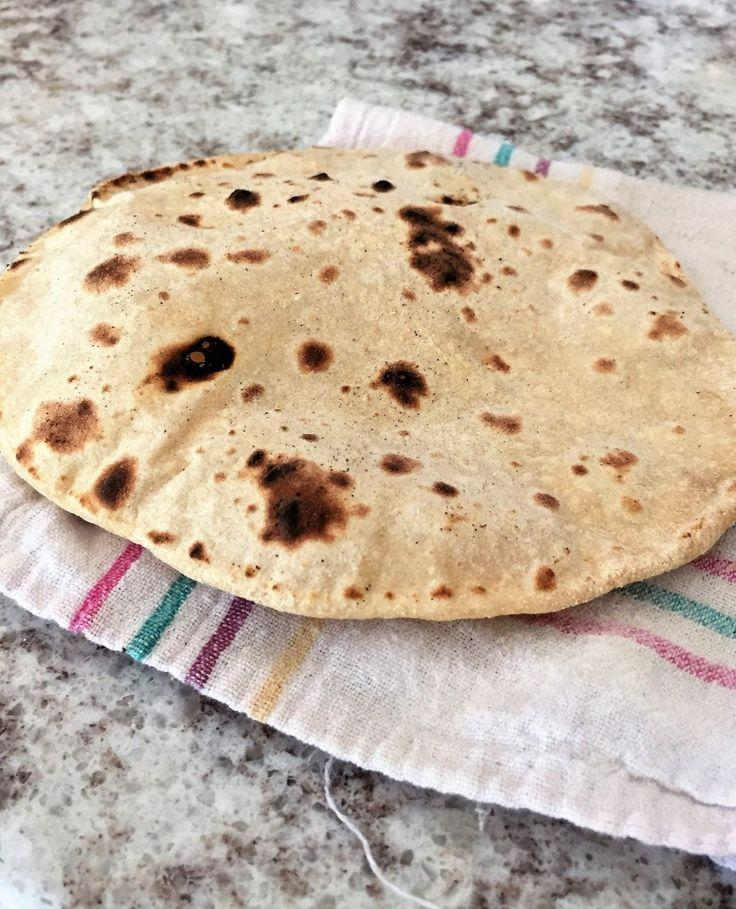roti phulka: (8, 139, 736, 619)
